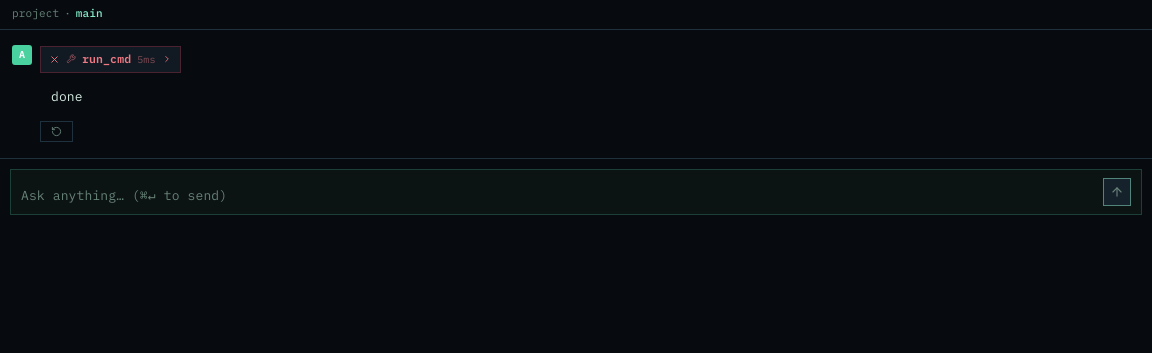
Scenario: AIChat — ToolBadge result rendering › AIChat_ToolBadge_isErrorResultShowsRedColor
Click the text "run_cmd" at (107, 59), box [82,50,131,68]
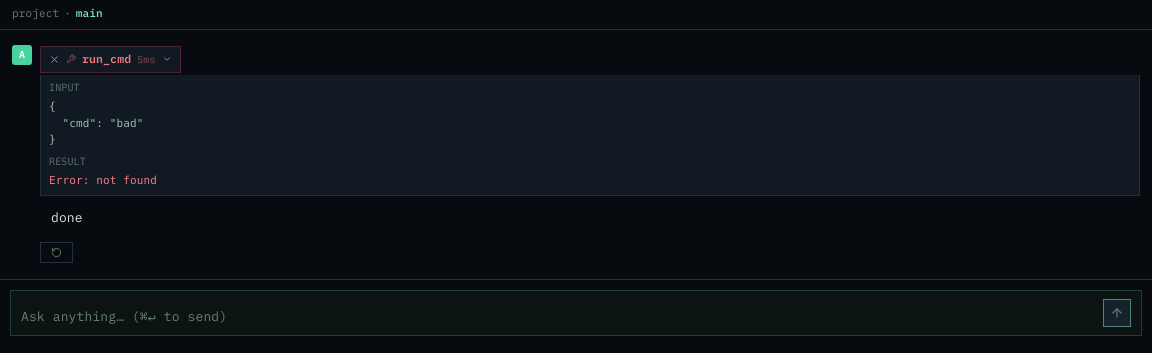
Result: the text "Error: not found" is shown at [49,174,157,187]
